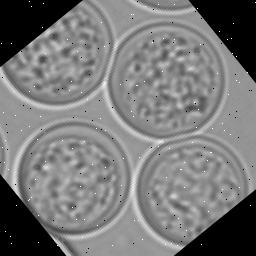picoshell: (105, 19, 227, 140), (11, 118, 130, 238), (132, 133, 251, 250), (127, 0, 193, 15), (50, 235, 71, 256)
